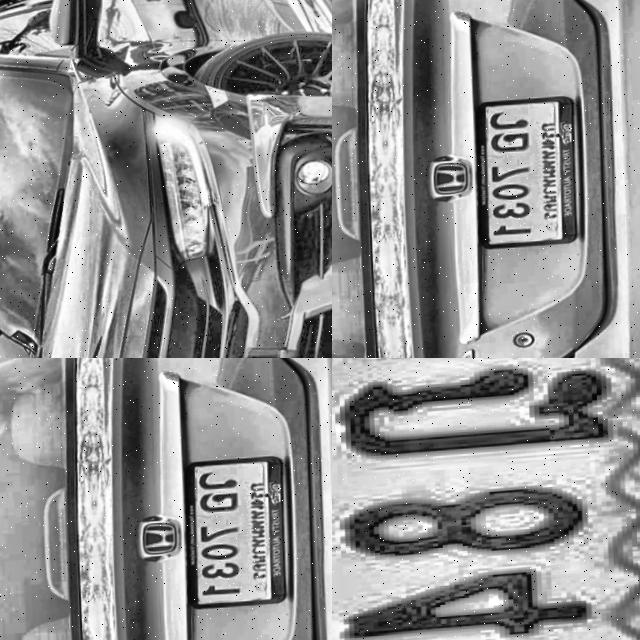license-plate: (332, 358, 640, 640), (471, 97, 579, 254), (180, 457, 288, 614)
